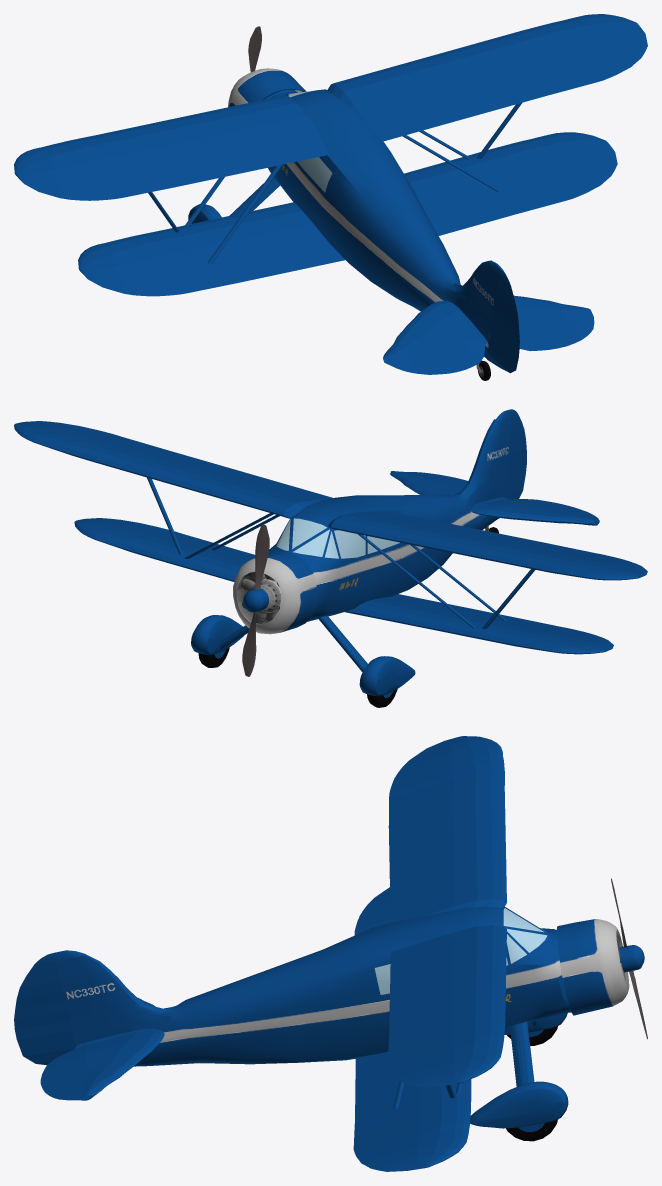
Rendered from Waco-S.glb.
3 renders of one model, top to bottom at view 1: azimuth 30°, elevation 25°; view 2: azimuth 150°, elevation 25°; view 3: azimuth 270°, elevation 25°, orthographic. The views are drawn at different scales.
Visible parts, largest first — view 1: WacoMainWing, WacoSFuselage, WacoHStab, WacoRudder; view 2: WacoMainWing, WacoSFuselage, WacoHStab, WacoSFuselage.001, MainGear, FaringL, WacoRudder, FaringR; view 3: WacoMainWing, WacoSFuselage, WacoHStab, WacoRudder, FaringR, MainGear, WacoSFuselage.001.
Part boxes in pixels (x1=…): WacoMainWing: x1=14, y1=14, x2=647, y2=296; WacoSFuselage: x1=228, y1=68, x2=502, y2=358; WacoHStab: x1=383, y1=295, x2=594, y2=374; WacoRudder: x1=486, y1=270, x2=519, y2=373; WacoMainWing: x1=14, y1=421, x2=647, y2=654; WacoSFuselage: x1=233, y1=410, x2=510, y2=634; WacoHStab: x1=390, y1=471, x2=599, y2=525; WacoSFuselage.001: x1=237, y1=524, x2=281, y2=676; MainGear: x1=198, y1=615, x2=397, y2=707; FaringL: x1=359, y1=656, x2=415, y2=696; WacoRudder: x1=498, y1=409, x2=526, y2=518; FaringR: x1=191, y1=615, x2=243, y2=655; WacoMainWing: x1=353, y1=736, x2=506, y2=1171; WacoSFuselage: x1=54, y1=906, x2=629, y2=1066; WacoHStab: x1=40, y1=998, x2=164, y2=1100; WacoRudder: x1=14, y1=953, x2=76, y2=1064; FaringR: x1=470, y1=1081, x2=568, y2=1128; MainGear: x1=506, y1=1020, x2=557, y2=1141; WacoSFuselage.001: x1=611, y1=878, x2=647, y2=1039.
Size of the model in its own units: 11.39 by 3.29 by 8.82.
Materials: 4 (4 with a texture image).
